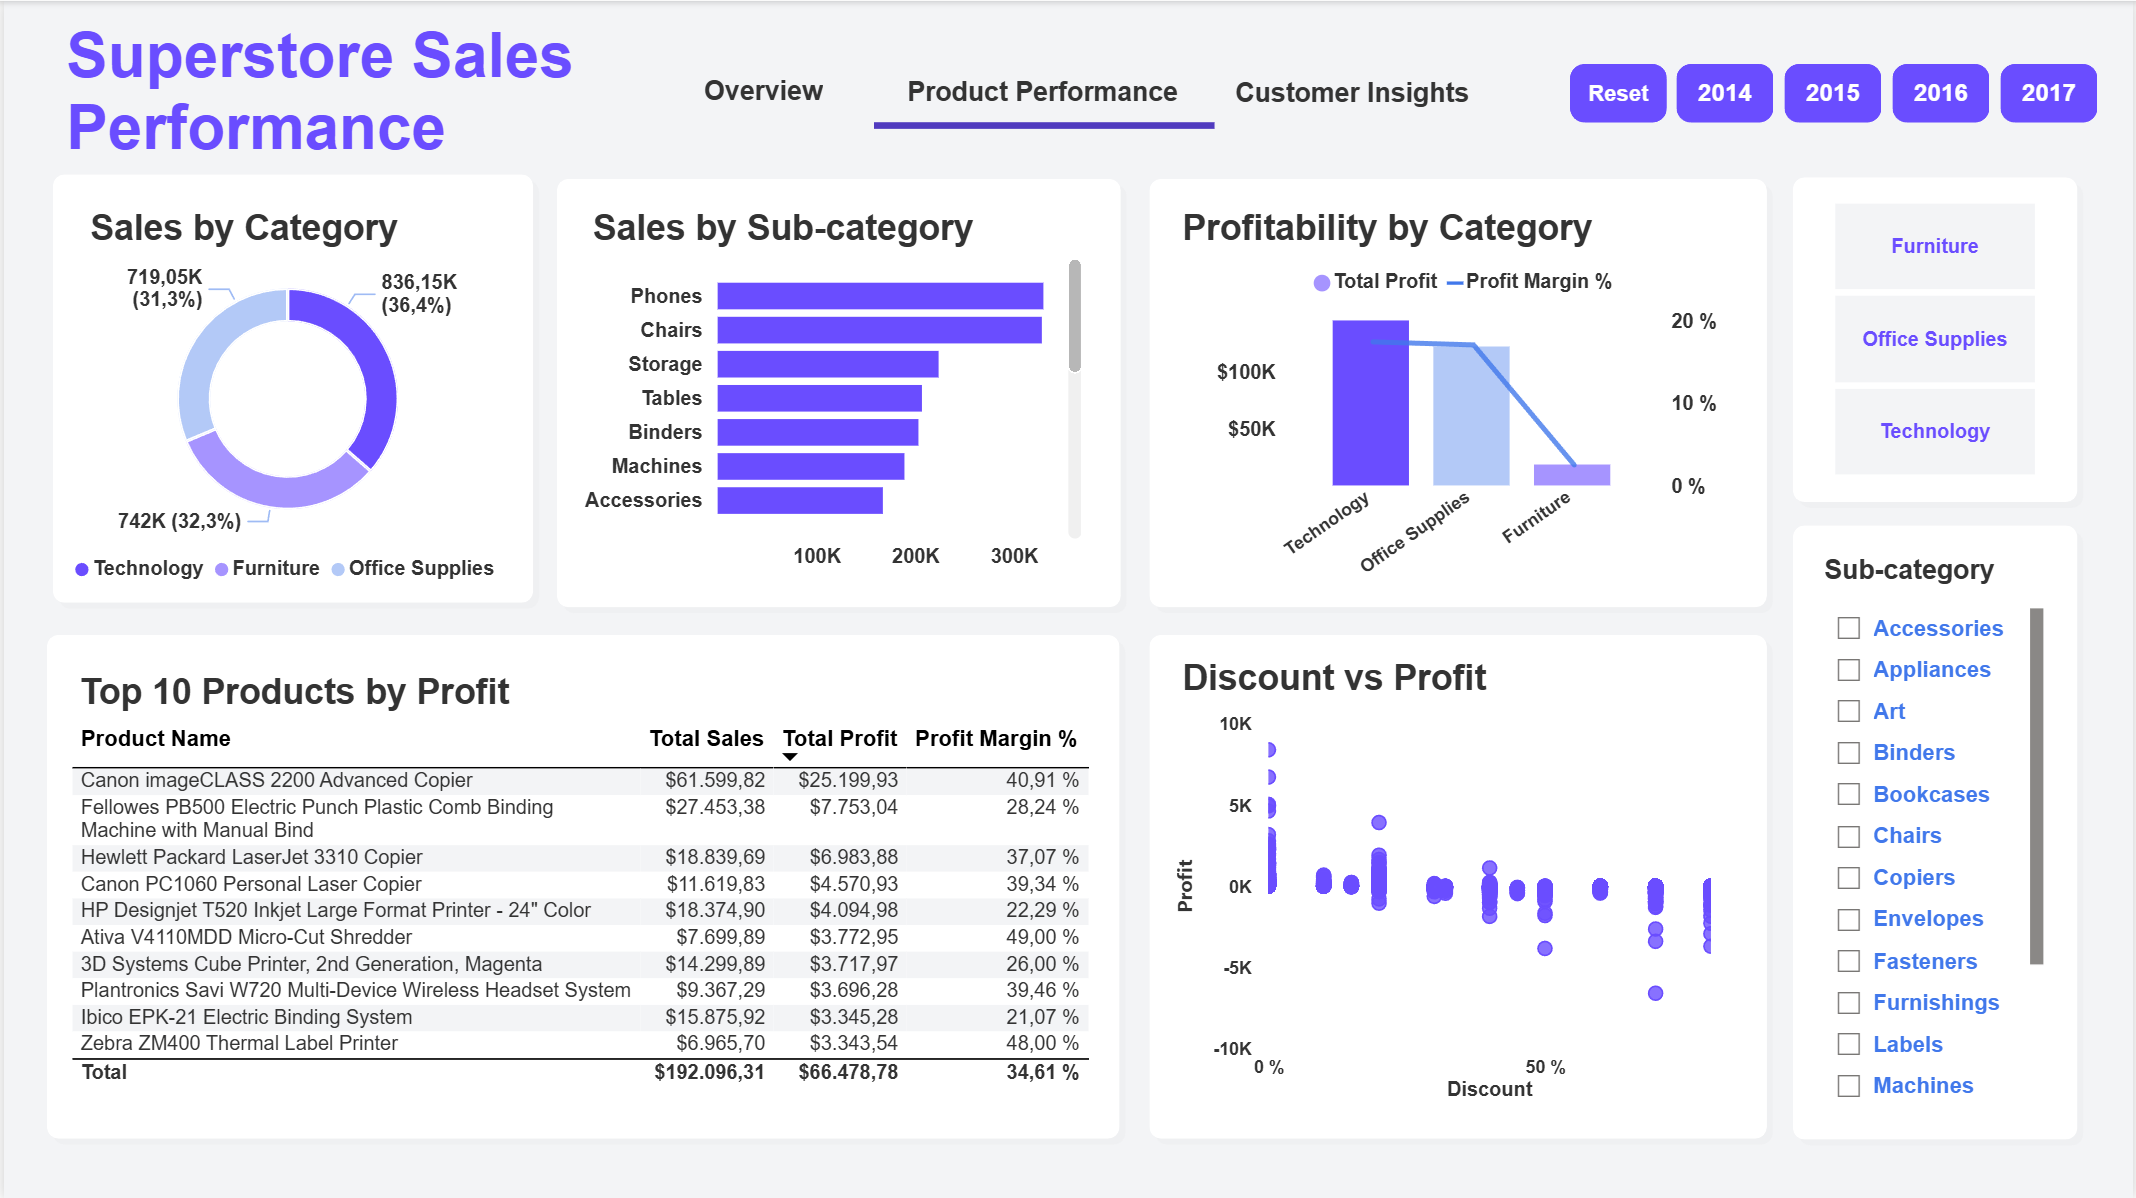

Layout of this report page (visuals, bound fields, positions):
{"tool":"powerbi","page":{"name":"Product Performance","canvas":[1280,720],"ordinal":1},"visuals":[{"type":"shape","box":[1070.1,100.6,181,205.2],"z":0},{"type":"shape","box":[24.1,99.6,298.7,267.5],"z":1000},{"type":"shape","box":[21.1,376.2,654.8,312.8],"z":2000},{"type":"donutChart","fields":{"Category":["Superstore Orders.Category"],"Y":["Superstore Orders.Total Sales"]},"box":[24.1,144.8,291.7,215.2],"z":3000},{"type":"tableEx","title":"Top 10 Products by Profit","fields":{"Values":["Superstore Orders.Product Name","Superstore Orders.Total Sales","Superstore Orders.Total Profit","Superstore Orders.Profit Margin %"]},"box":[35.2,430.5,626.6,249.4],"z":4000},{"type":"actionButton","box":[1005.6,37.9,58.3,35.1],"z":5000},{"type":"actionButton","box":[1070.4,37.9,58.3,35.1],"z":6000},{"type":"actionButton","box":[1135.1,37.9,58.3,35.1],"z":7000},{"type":"actionButton","box":[1199.5,37.9,58.3,35.1],"z":8000},{"type":"actionButton","box":[940.9,37.9,58.3,35.1],"z":9000},{"type":"actionButton","box":[394.9,34.2,123,39.8],"z":10000},{"type":"actionButton","box":[538.1,35.2,172,39.2],"z":11000},{"type":"actionButton","box":[727.9,35.1,165.5,39.8],"z":12000},{"type":"textbox","box":[32.2,5,349,100.6],"z":13000},{"type":"shape","box":[523.3,49.6,204.8,50.5],"z":14000},{"type":"textbox","box":[40.2,397.3,282.6,46.3],"z":15000},{"type":"textbox","box":[47.3,118.7,209.2,46.3],"z":16000},{"type":"shape","box":[326.9,101.6,349,267.5],"z":17000},{"type":"textbox","box":[349,118.7,250.4,46.3],"z":18000},{"type":"clusteredBarChart","fields":{"Category":["Superstore Orders.Sub-Category"],"Y":["Superstore Orders.Total Sales"]},"box":[343,141.8,309.8,208.2],"z":19000},{"type":"shape","box":[682.9,101.6,381.2,267.5],"z":20000},{"type":"textbox","box":[703,118.7,266.5,46.3],"z":21000},{"type":"lineClusteredColumnComboChart","title":"Profitability by Product Category","fields":{"Category":["Superstore Orders.Category"],"Y":["Superstore Orders.Total Profit"],"Y2":["Superstore Orders.Profit Margin %"]},"box":[723.1,149.9,311.8,205.2],"z":22000},{"type":"shape","box":[682.9,376.2,381.2,312.8],"z":23000},{"type":"scatterChart","title":"Discount vs. Profit","fields":{"X":["Superstore Orders.Discount"],"Y":["Superstore Orders.Profit"]},"box":[700,420.4,344,245.4],"z":24000},{"type":"textbox","box":[703,389.2,266.5,46.3],"z":25000},{"type":"slicer","fields":{"Values":["Superstore Orders.Category"]},"box":[1074.2,114.7,170,177],"z":26000},{"type":"shape","box":[1070.1,309.8,181,379.2],"z":27000},{"type":"slicer","fields":{"Values":["Superstore Orders.Sub-Category"]},"box":[1089.2,360.1,141.8,311.8],"z":28000},{"type":"textbox","box":[1089.2,326.9,115.7,46.3],"z":29000},{"type":"slicer","fields":{"Values":["Date.Year"]},"box":[1251.3,689,28.7,31.4],"z":30000}]}

Visuals, with their boxes in screenshot pixels (x1, y1, x2, y2), scaled from the page's 1280x720 canvas onto the 2136x1198 screenshot:
shape: (left=1786, top=167, right=2088, bottom=509)
shape: (left=40, top=166, right=539, bottom=611)
shape: (left=35, top=626, right=1128, bottom=1146)
donutChart - Superstore Orders.Category x Superstore Orders.Total Sales: (left=40, top=241, right=527, bottom=599)
"Top 10 Products by Profit" tableEx: (left=59, top=716, right=1104, bottom=1131)
actionButton: (left=1678, top=63, right=1775, bottom=121)
actionButton: (left=1786, top=63, right=1884, bottom=121)
actionButton: (left=1894, top=63, right=1991, bottom=121)
actionButton: (left=2002, top=63, right=2099, bottom=121)
actionButton: (left=1570, top=63, right=1667, bottom=121)
actionButton: (left=659, top=57, right=864, bottom=123)
actionButton: (left=898, top=59, right=1185, bottom=124)
actionButton: (left=1215, top=58, right=1491, bottom=125)
textbox: (left=54, top=8, right=636, bottom=176)
shape: (left=873, top=83, right=1215, bottom=167)
textbox: (left=67, top=661, right=539, bottom=738)
textbox: (left=79, top=198, right=428, bottom=275)
shape: (left=546, top=169, right=1128, bottom=614)
textbox: (left=582, top=198, right=1000, bottom=275)
clusteredBarChart - Superstore Orders.Sub-Category x Superstore Orders.Total Sales: (left=572, top=236, right=1089, bottom=582)
shape: (left=1140, top=169, right=1776, bottom=614)
textbox: (left=1173, top=198, right=1618, bottom=275)
"Profitability by Product Category" lineClusteredColumnComboChart: (left=1207, top=249, right=1727, bottom=591)
shape: (left=1140, top=626, right=1776, bottom=1146)
"Discount vs. Profit" scatterChart: (left=1168, top=699, right=1742, bottom=1108)
textbox: (left=1173, top=648, right=1618, bottom=725)
slicer - Superstore Orders.Category: (left=1793, top=191, right=2076, bottom=485)
shape: (left=1786, top=515, right=2088, bottom=1146)
slicer - Superstore Orders.Sub-Category: (left=1818, top=599, right=2054, bottom=1118)
textbox: (left=1818, top=544, right=2011, bottom=621)
slicer - Date.Year: (left=2088, top=1146, right=2135, bottom=1197)
